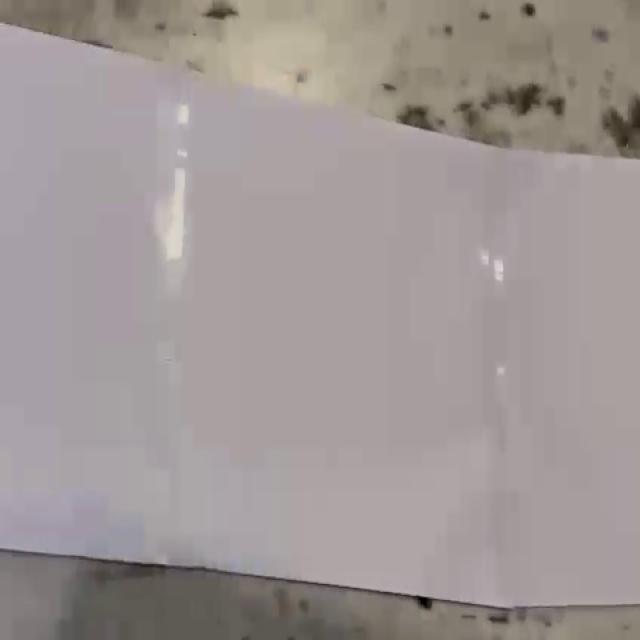road: (0, 24, 640, 607)
